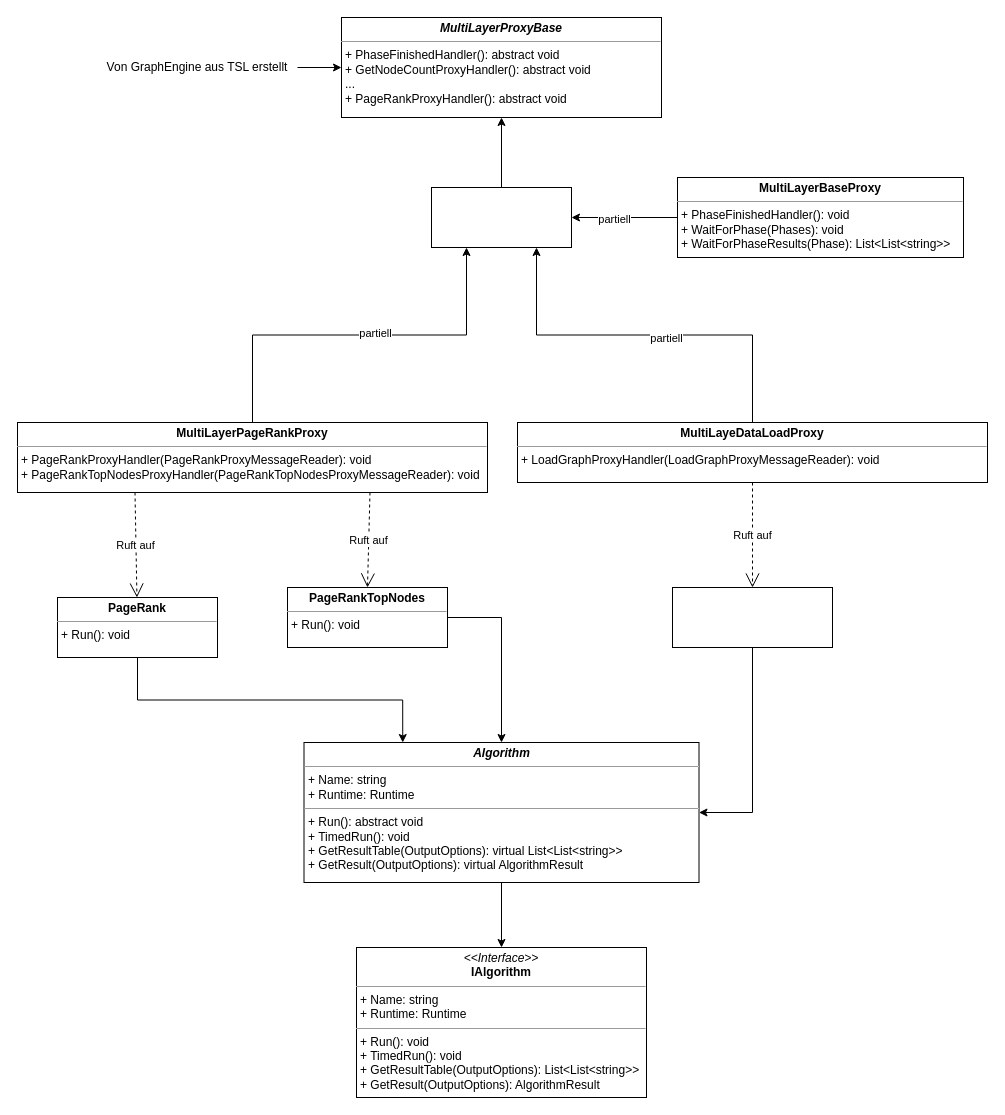
This 1005x1115 diagram has some shape labels left out. The centre of each missing label's shape, as x and y in pixels:
DataLoad + Run(): void: the point at 752,617
MultiLayerProxyImpl: the point at 501,217
